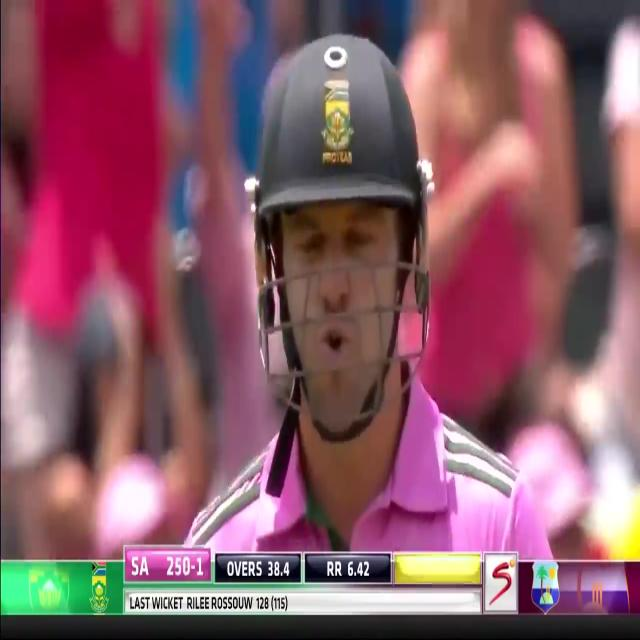Ball: (172, 27, 555, 553)
